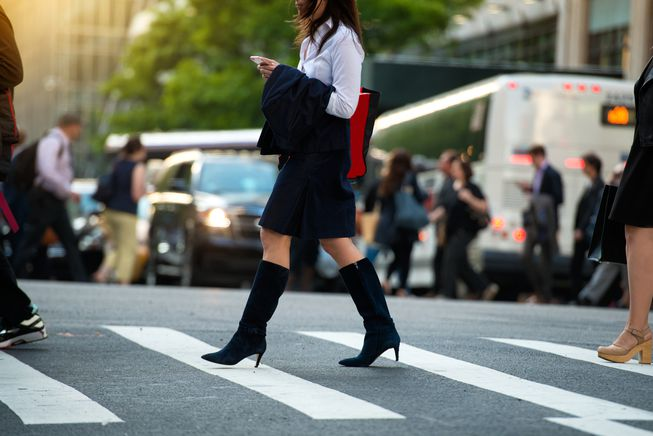pedestrian: (212, 2, 425, 379), (433, 154, 499, 302), (511, 138, 568, 304), (378, 152, 425, 296)
